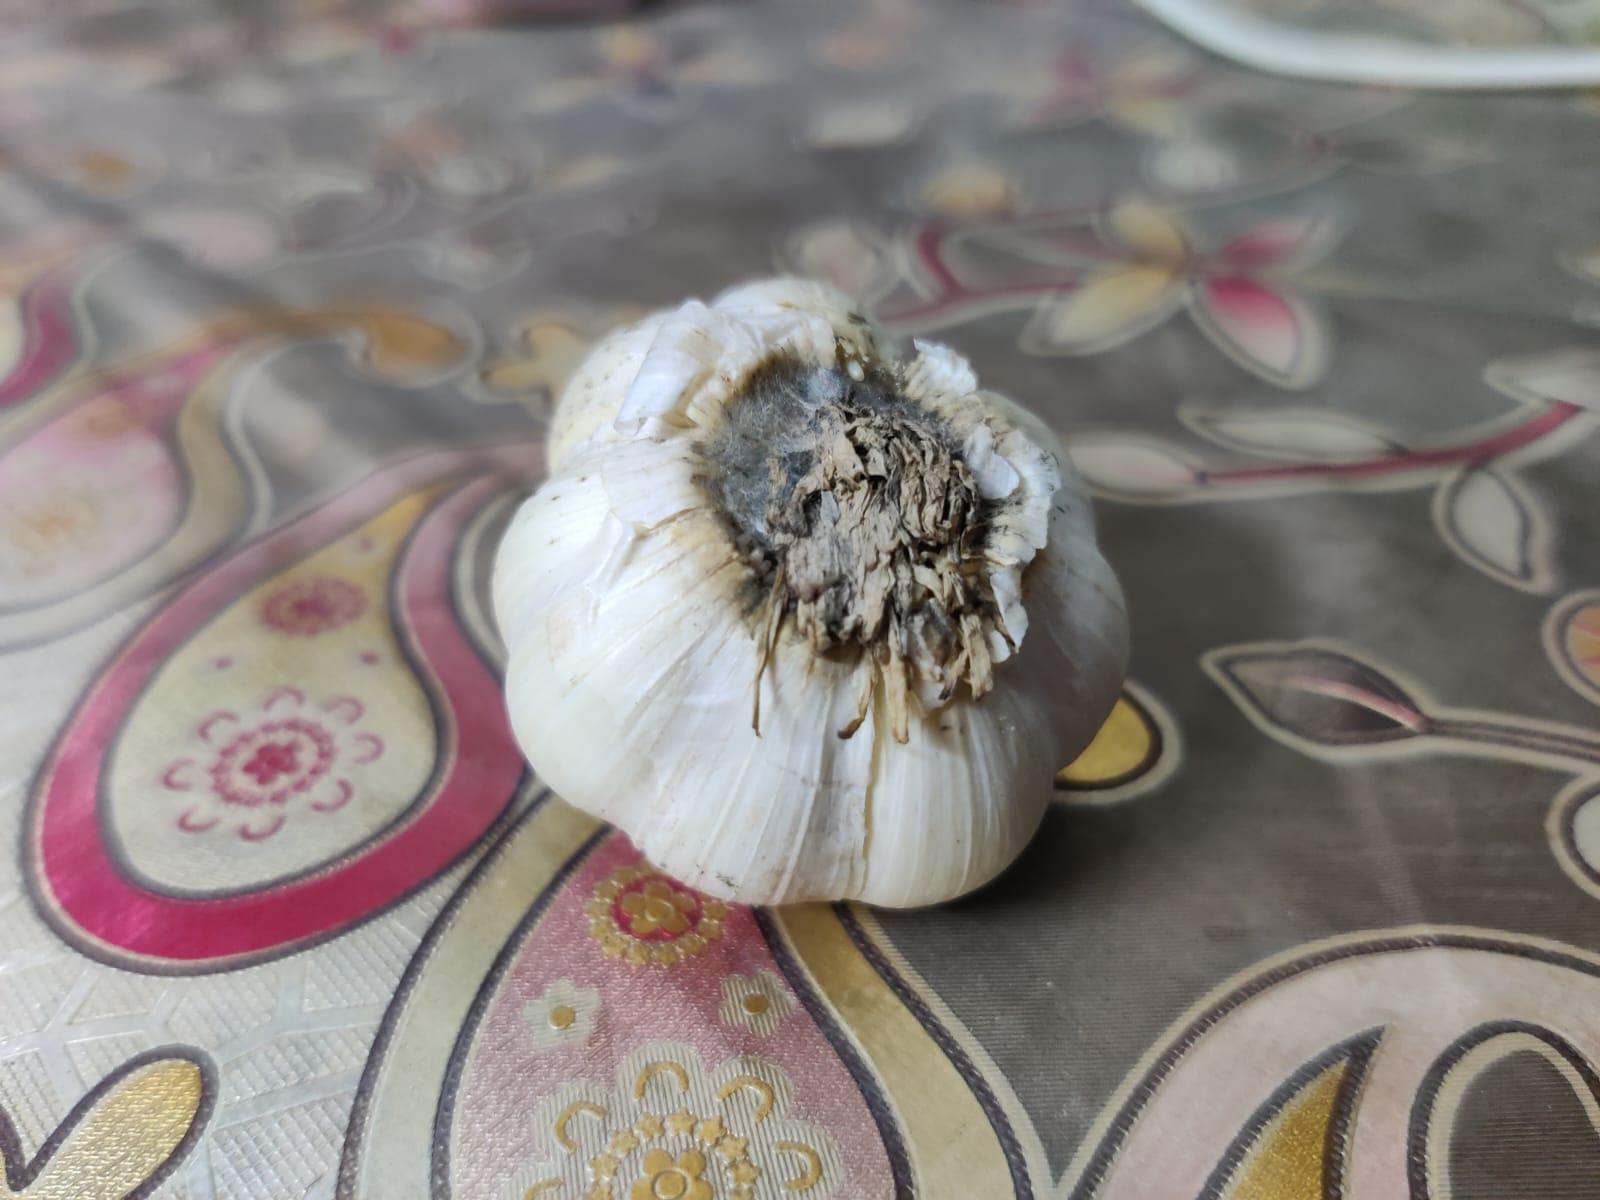non-mango: (486, 271, 1129, 905)
